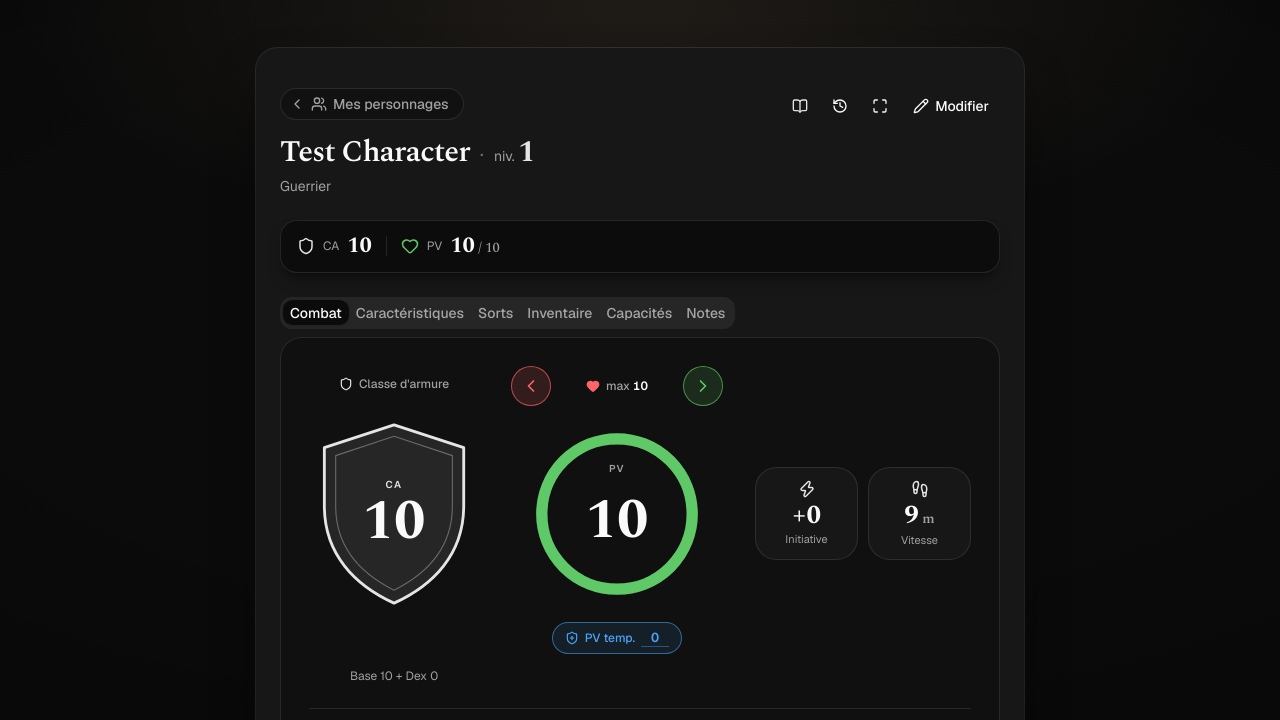
Journal de l'aventurier › starts today's session with the first note, newest notes first
Expected: the heading "Test Character" is shown, [280,134,470,170]
Click the button named "Journal" at (800, 106), box [782,88,818,124]
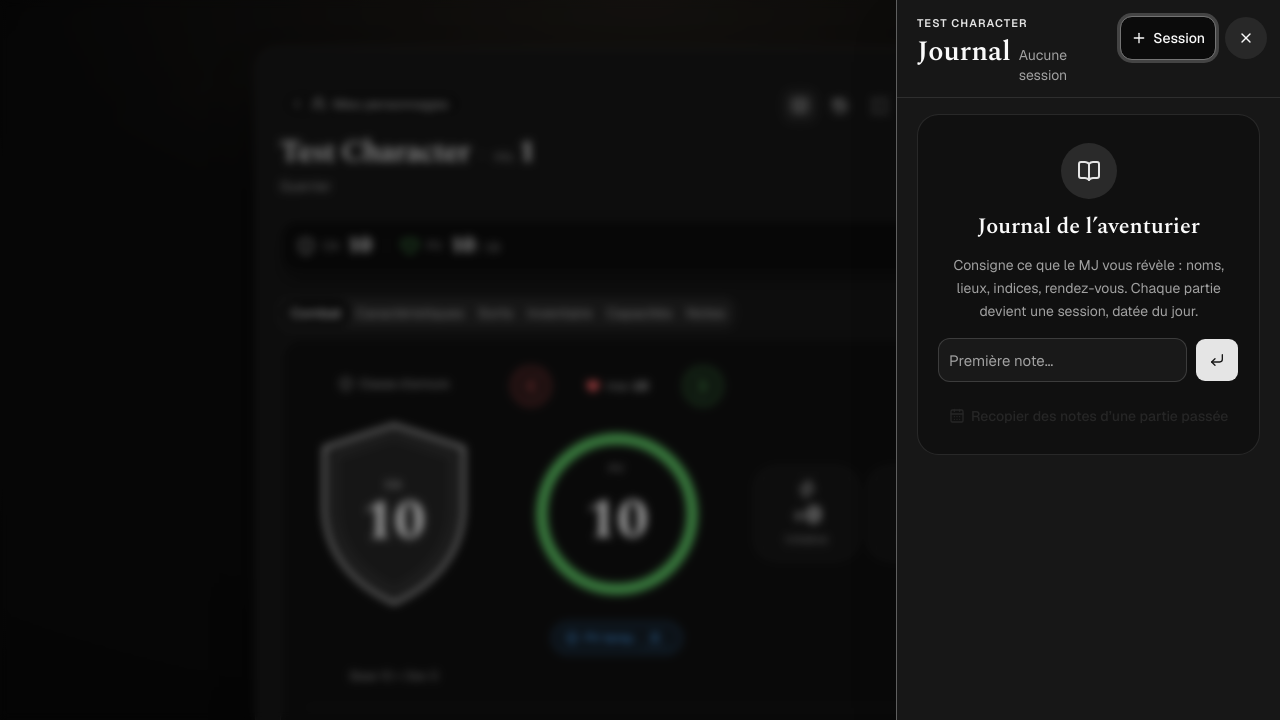
Expected: the element named "Journal vide" is shown, [917,114,1260,455]
Type "Aldric ment" into the field named "Nouvelle note" at (1063, 360), box [938,338,1187,382]
Then press Enter
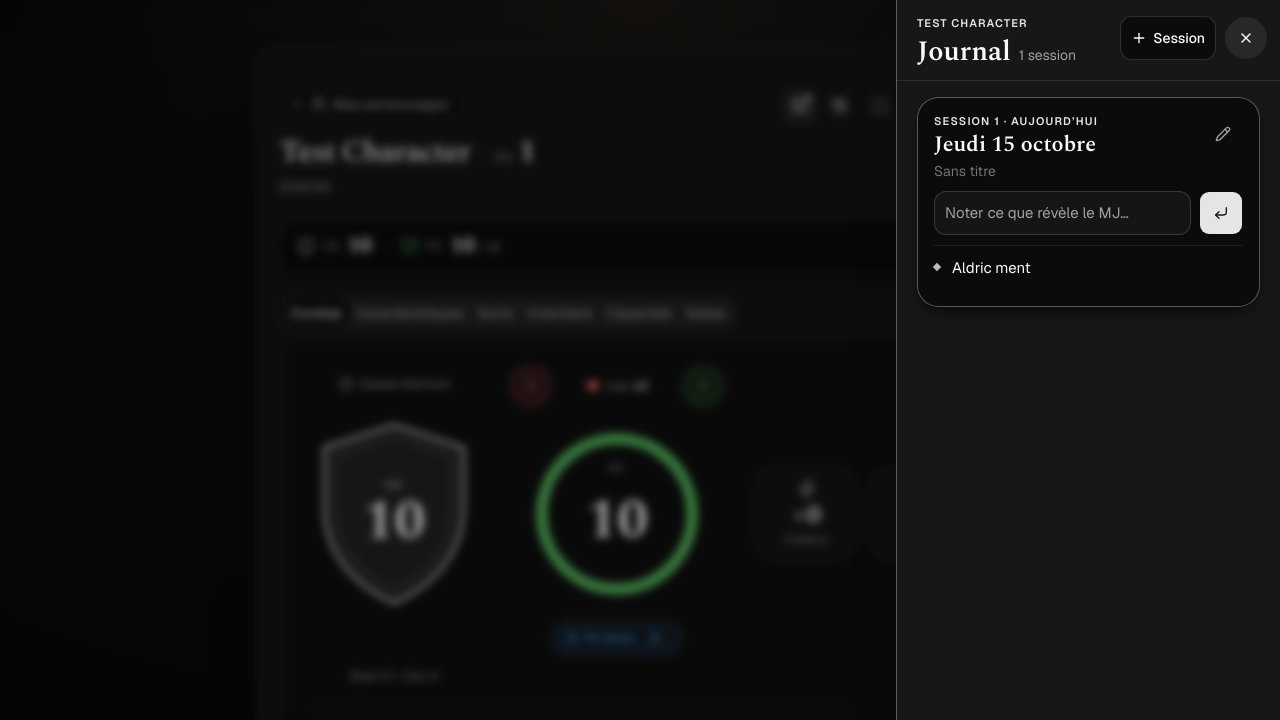
Expected: the text "Session 1 · Aujourd’hui" is shown, [934,114,1098,128]
Type "Mot de passe" into the field named "Nouvelle note" at (1062, 213), box [934,191,1191,235]
Then press Enter
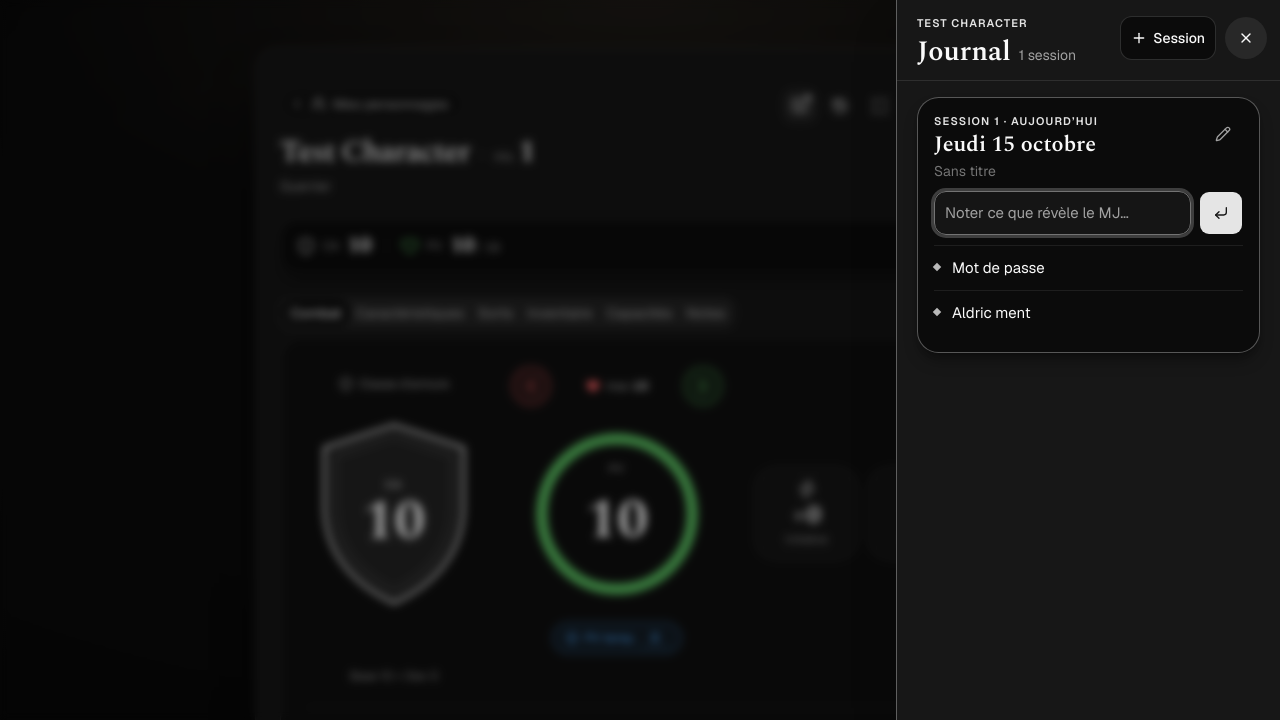
Expected: the buttons "Modifier la note" read "Mot de passe", "Aldric ment", in this order, [934,246,1243,290]; [934,291,1243,336]
